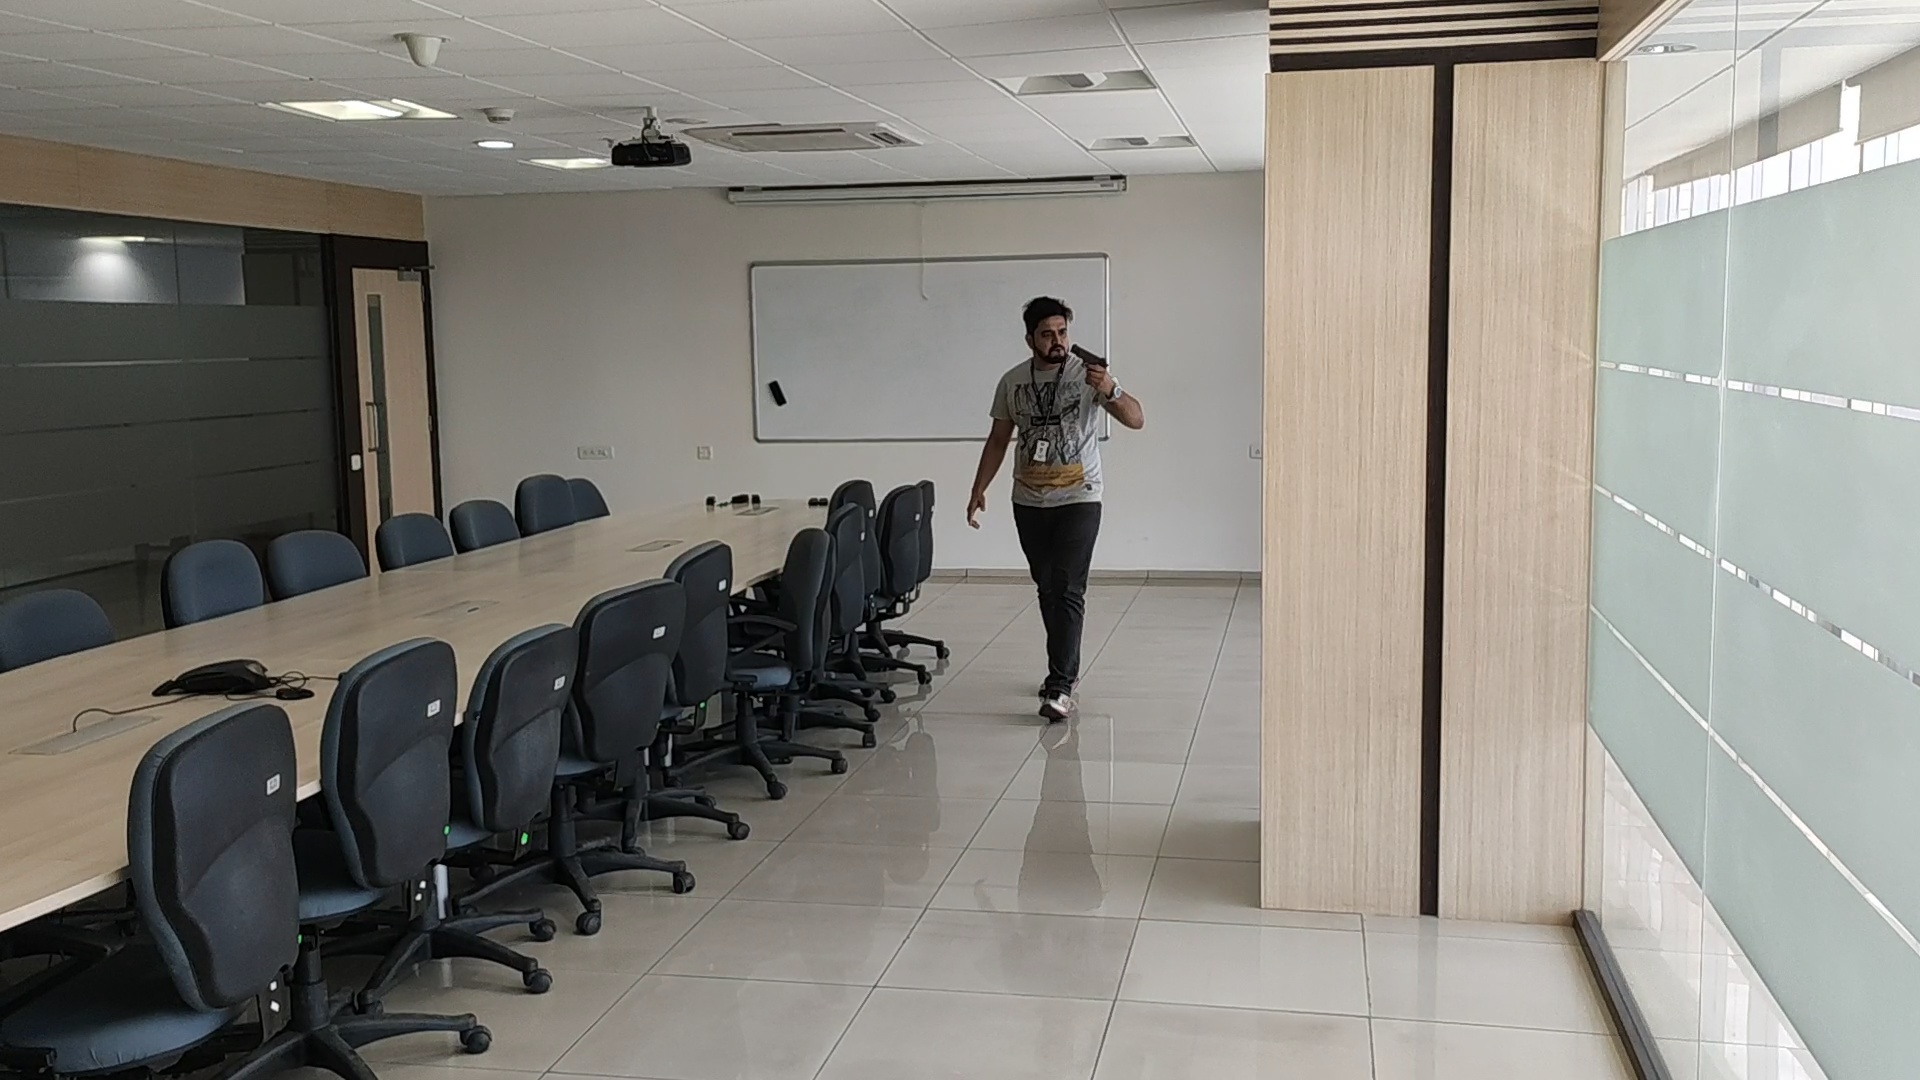gun: (1069, 344, 1109, 365)
